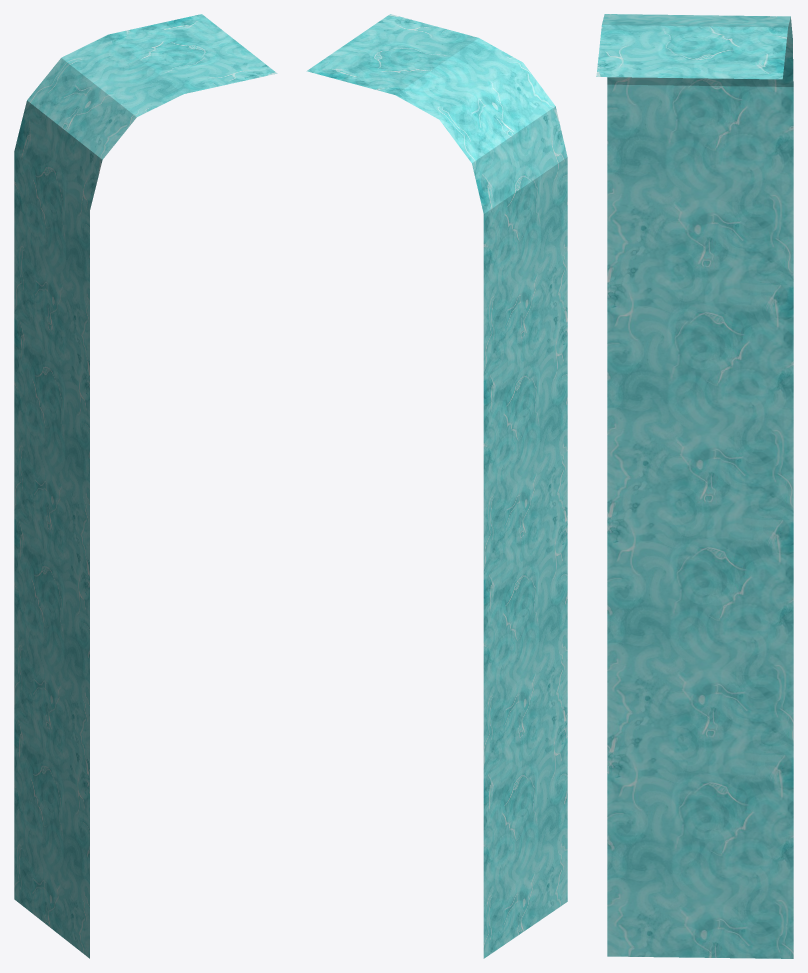
File: entity54322n.gltf
3 renders of one model, left to right at view 1: azimuth 30°, elevation 25°; view 2: azimuth 150°, elevation 25°; view 3: azimuth 270°, elevation 25°, orthographic. The views are drawn at different scales.
Parts seen in each view (by area): view 1: node_Water_Fall_02 (1); view 2: node_Water_Fall_02 (1); view 3: node_Water_Fall_02 (1).
Part boxes in pixels (x1,y1,x2,y2): node_Water_Fall_02 (1): (14, 14, 277, 958); node_Water_Fall_02 (1): (306, 14, 567, 958); node_Water_Fall_02 (1): (596, 14, 793, 958).
Size of the model in its own units: 3.45 by 14.87 by 2.7.
